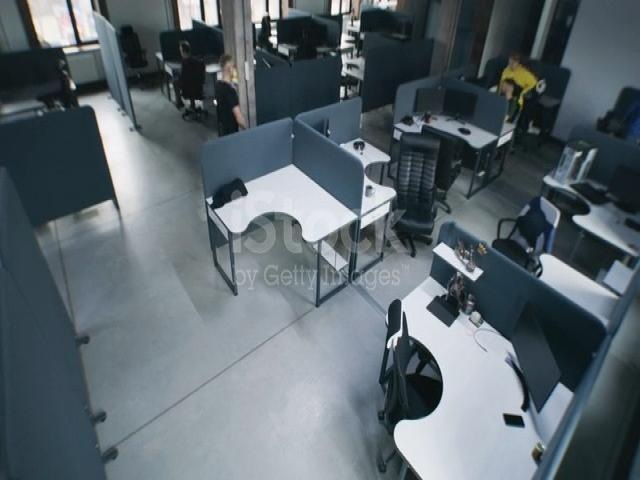empty chair: (366, 304, 438, 434), (478, 189, 568, 285), (389, 122, 450, 236), (51, 46, 101, 130), (418, 111, 469, 188), (116, 8, 154, 90), (345, 75, 372, 104)
occupiedchair: (159, 13, 218, 146), (483, 71, 539, 174), (586, 97, 640, 145)
